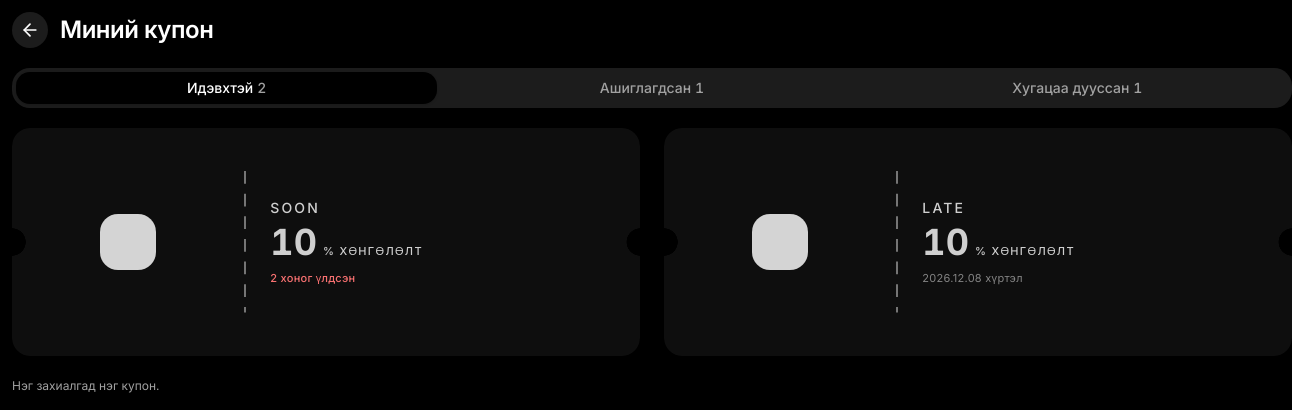
CouponWallet › shows a shared coupon under «Ашиглагдсан» with the masked friend
Click the tab "Ашиглагдсан1". click: (652, 88)
box: top-left (441, 72), bottom-right (863, 104)
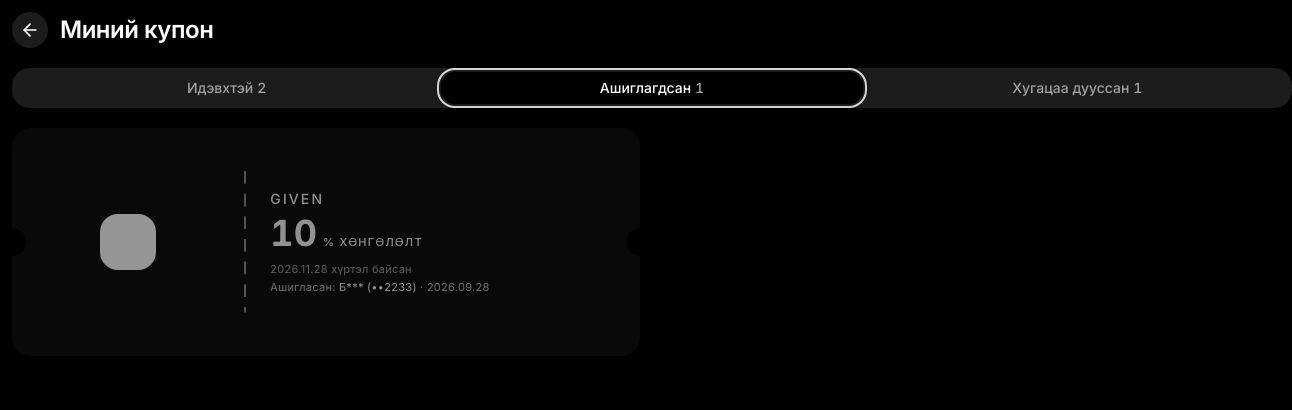
Now the text "GIVEN" is shown, box top-left (270, 190), bottom-right (324, 207)
Now the text "Б*** (••2233)" is shown, box top-left (339, 280), bottom-right (417, 294)
